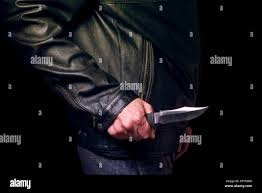knife: (145, 106, 209, 125)
